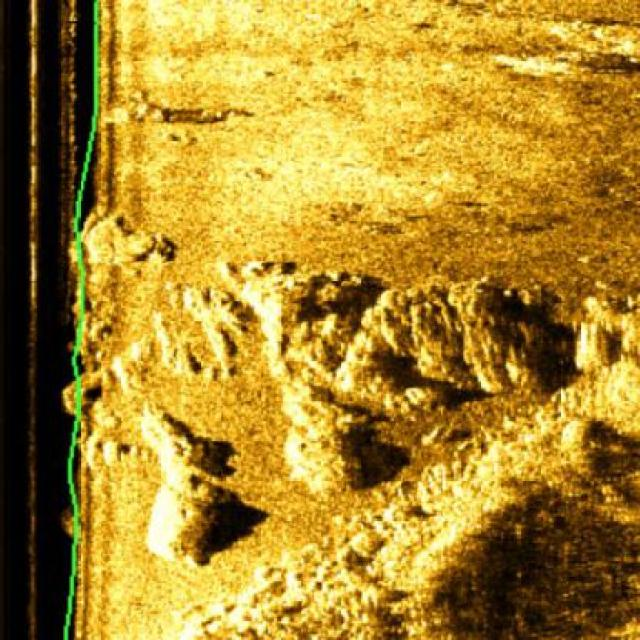bedrock group: (67, 212, 639, 639)
